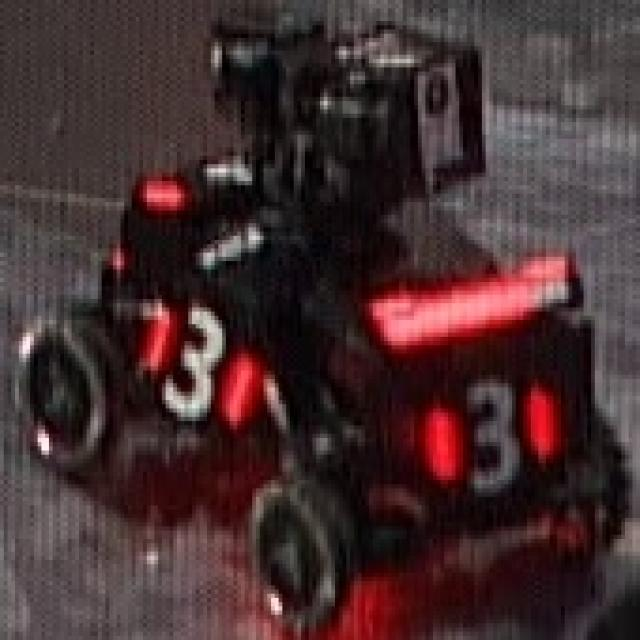R3: (401, 362, 555, 501), (130, 299, 258, 425)
